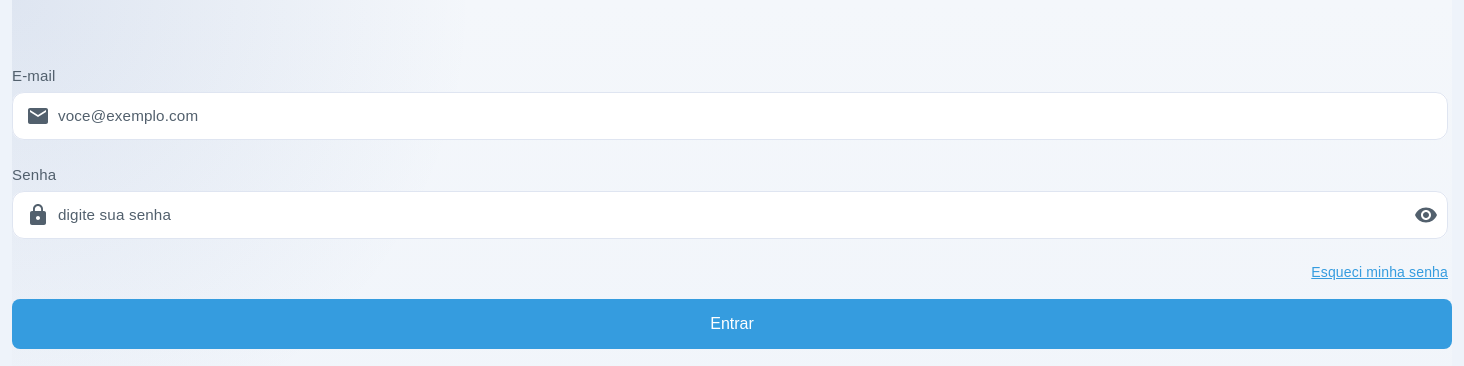
Test case: login form toggles password visibility with an accessible button
The width and height of the screenshot is (1464, 366).
Click the button named "mostrar senha": (1426, 215) [1406,195,1446,235]
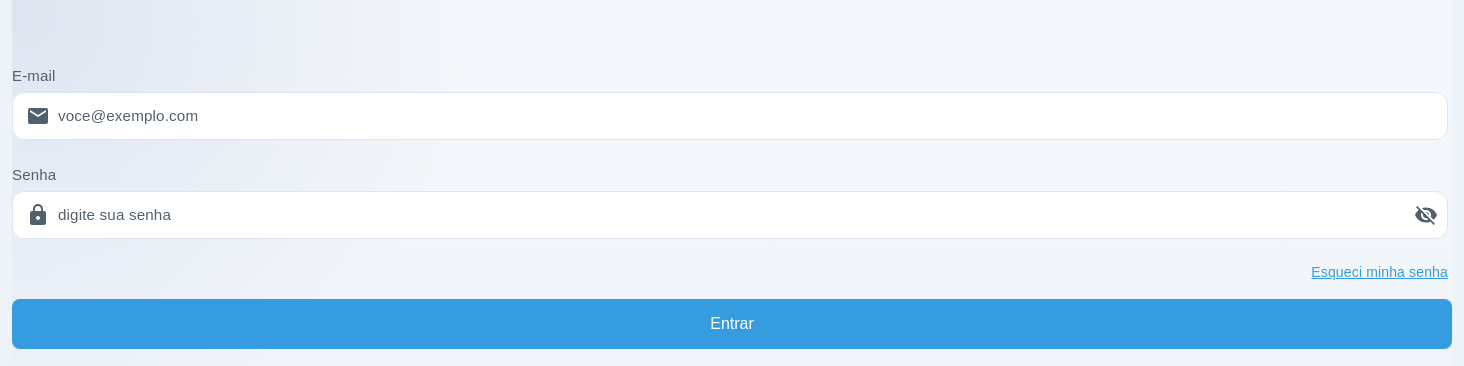
Expected: the button named "ocultar senha" is shown, [1406,195,1446,235]
